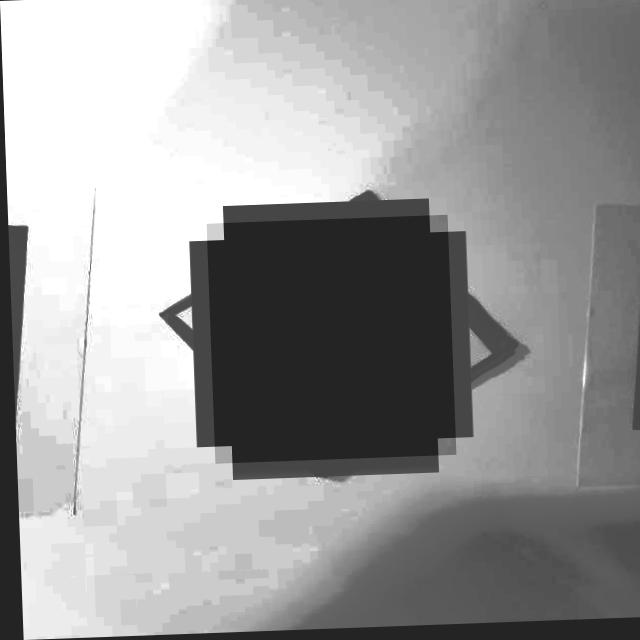qr_code: (205, 217, 453, 464)
